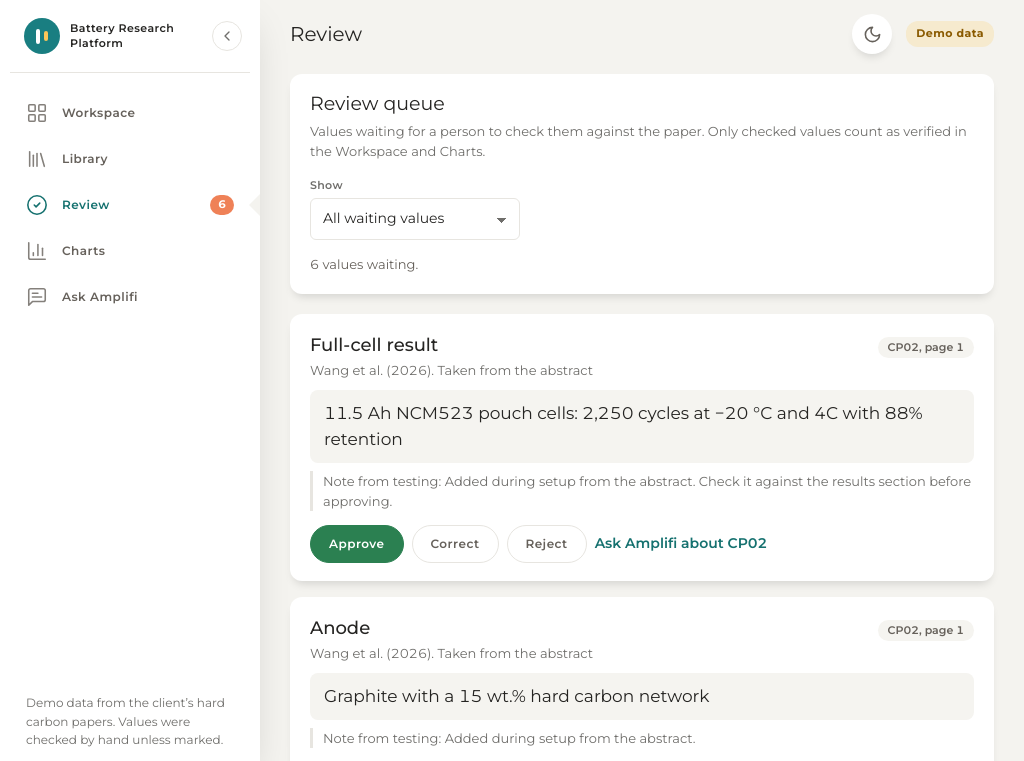
Review › ignores a double click while a decision is saving
The image size is (1024, 761).
Click the button "Approve" below "Full-cell result" at (357, 544), box [310, 525, 404, 563]
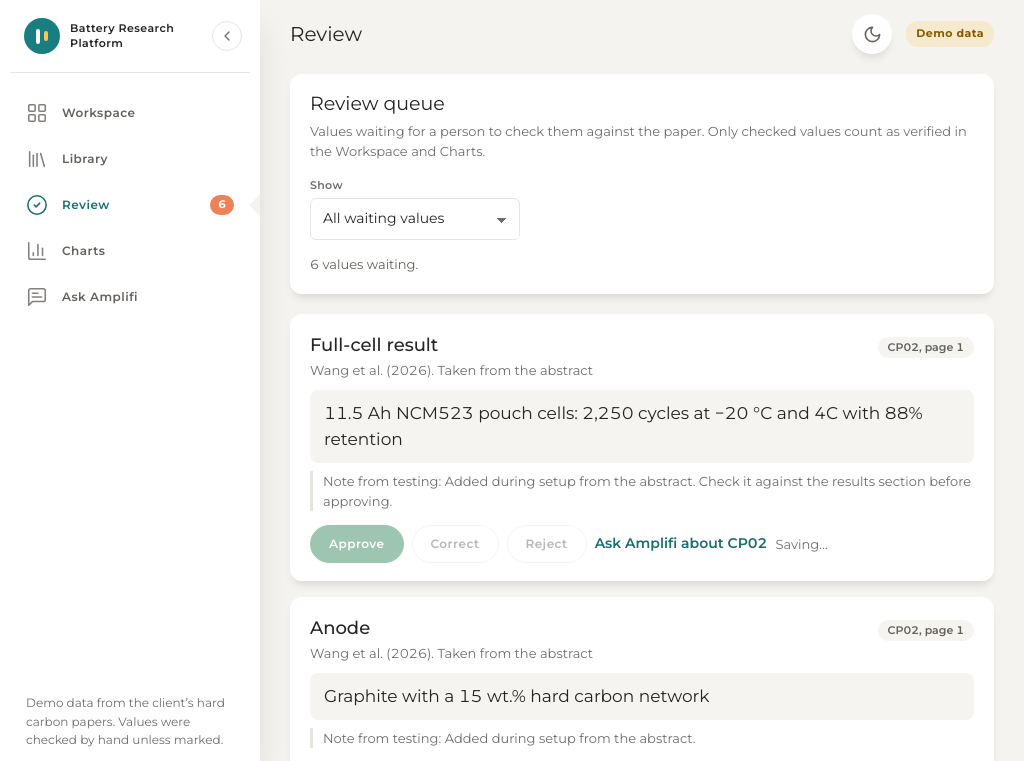
Click the button "Approve" in the row of "Saving…" at (357, 544), box [310, 525, 404, 563]
(page scrolled)
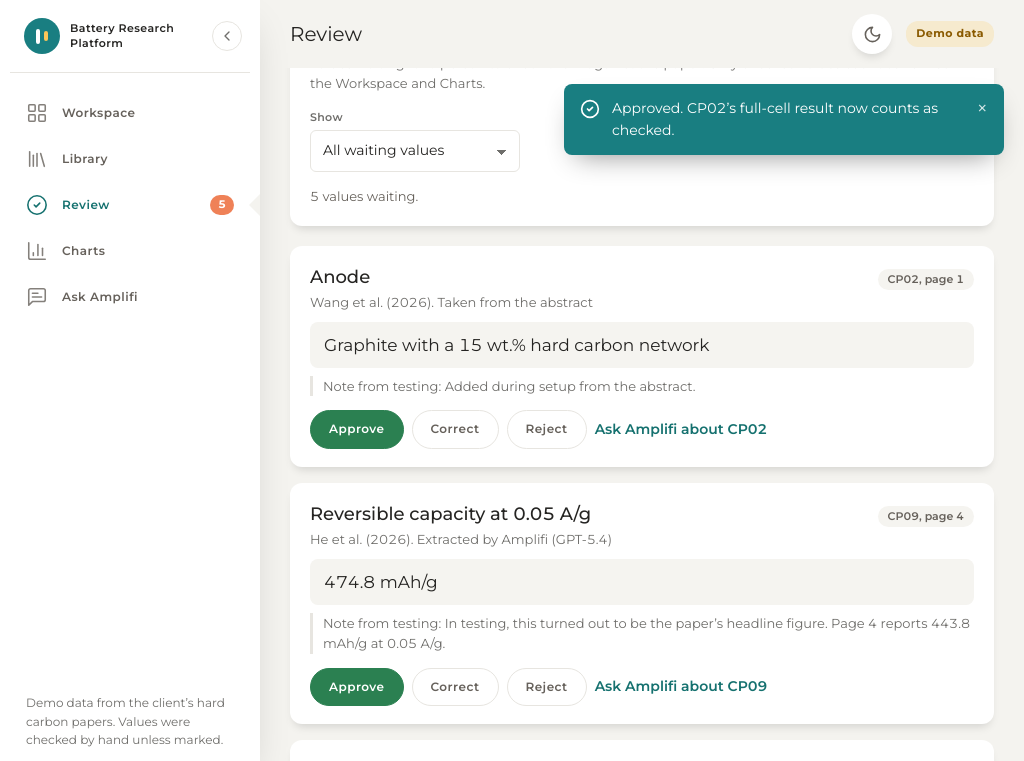
Result: the text "5 values waiting." is shown at [310, 188, 418, 204]
